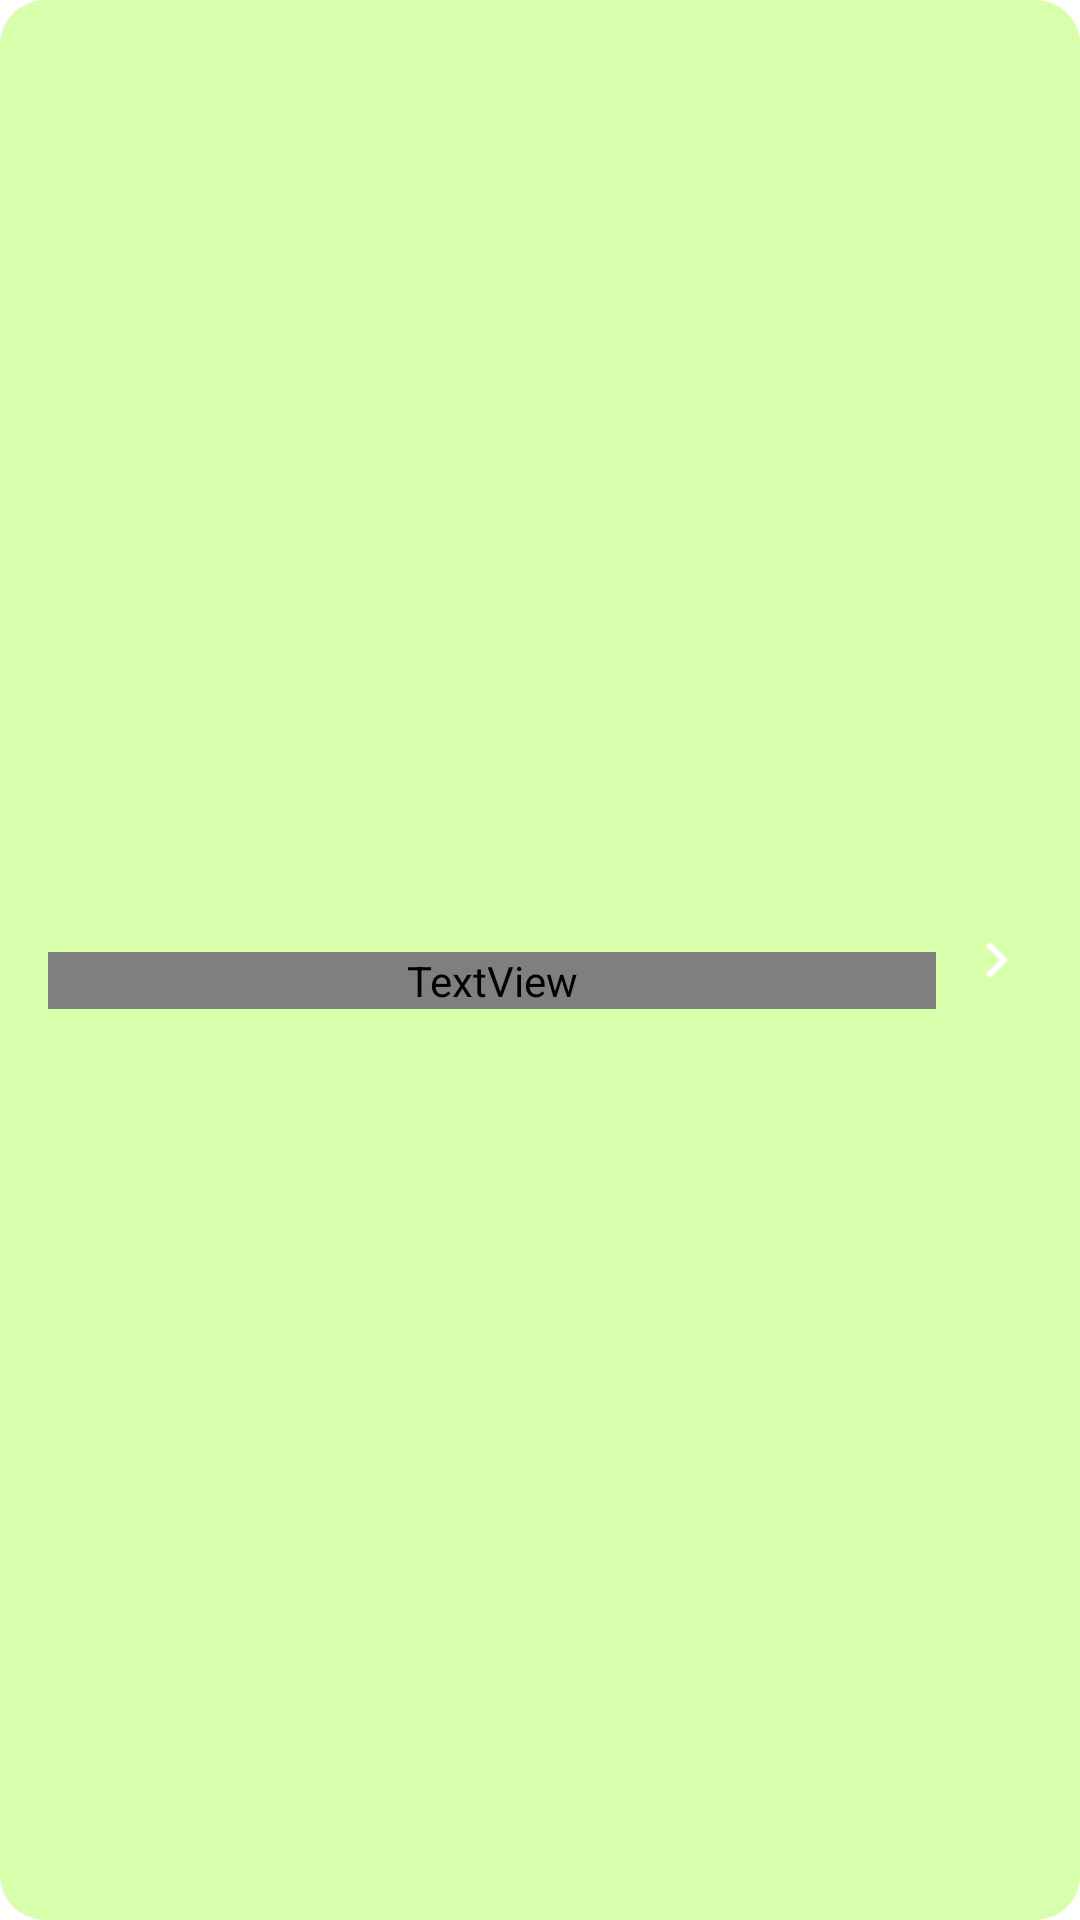

Where to tap for icons on this 1080w x 1920h app screen, as (x=x, y=y):
chevron right: (x=997, y=960)
